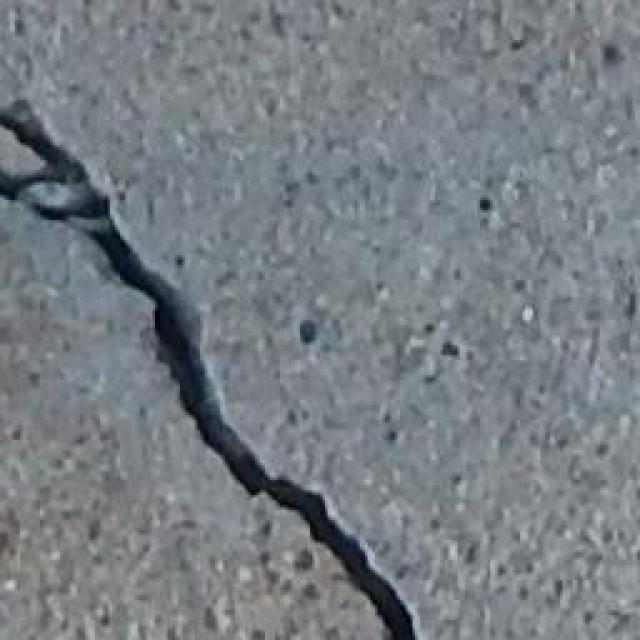concrete-crack: (0, 76, 432, 640)
